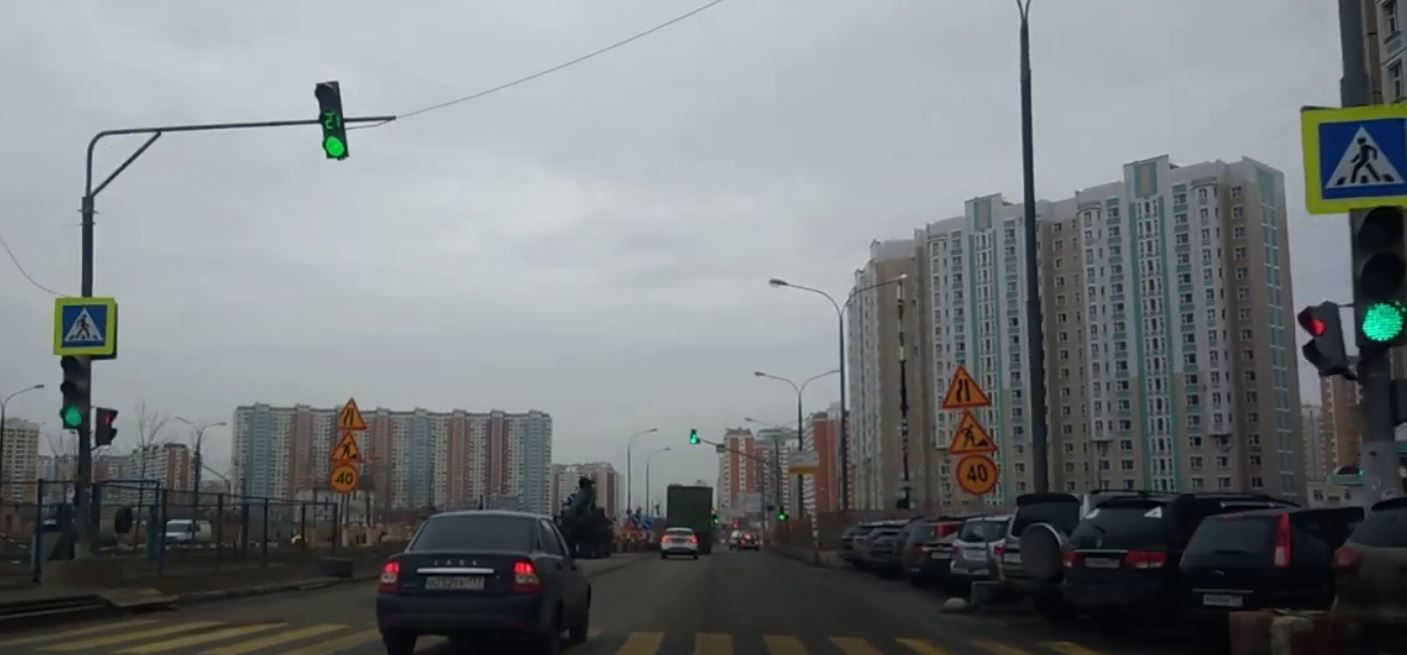Yaya Gecidi: (1319, 121, 1407, 198), (54, 303, 112, 350)
